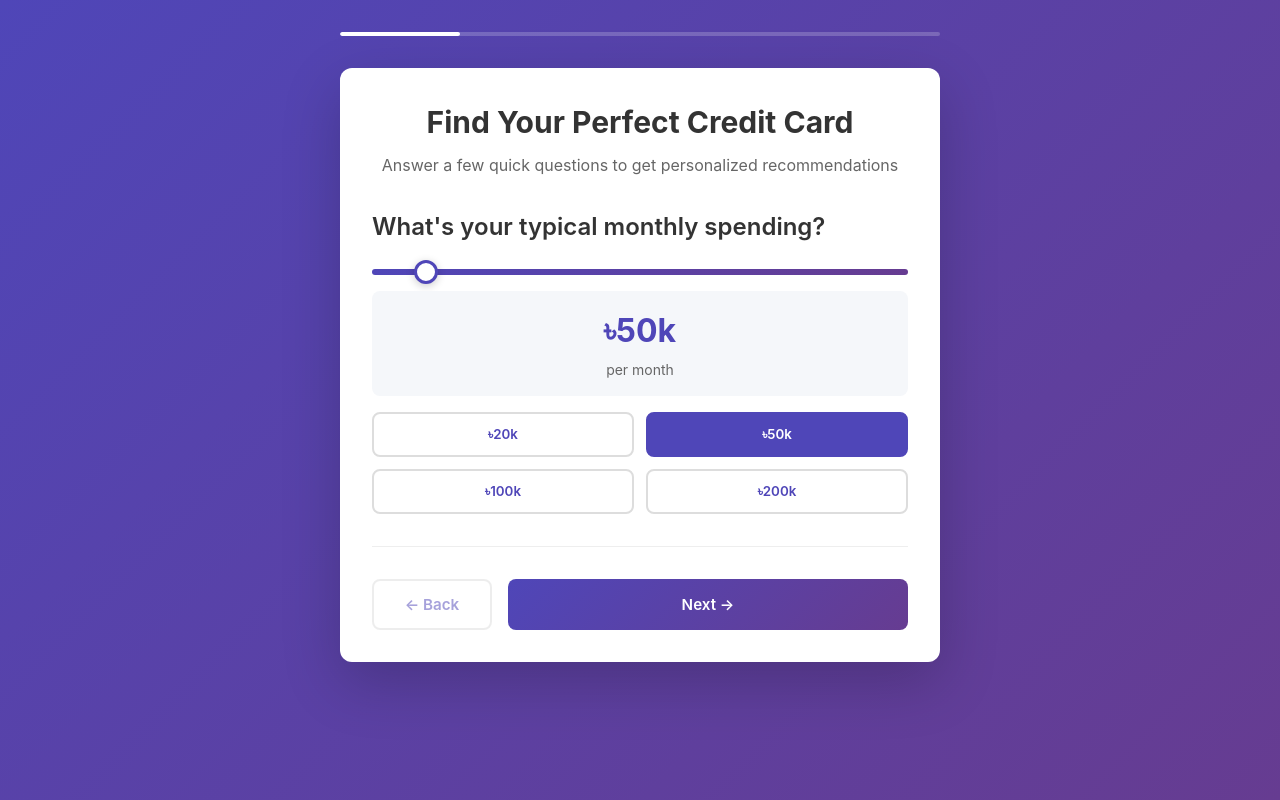
Scenario: RecommendationQuiz › Quiz Flow › enables previous button after first step
This screenshot has width=1280, height=800.
Check: the heading "What's your typical monthly spending?" is shown, box [372,212,825,241]
Click the button "Next →".
click(708, 604)  # box [508,579,908,630]
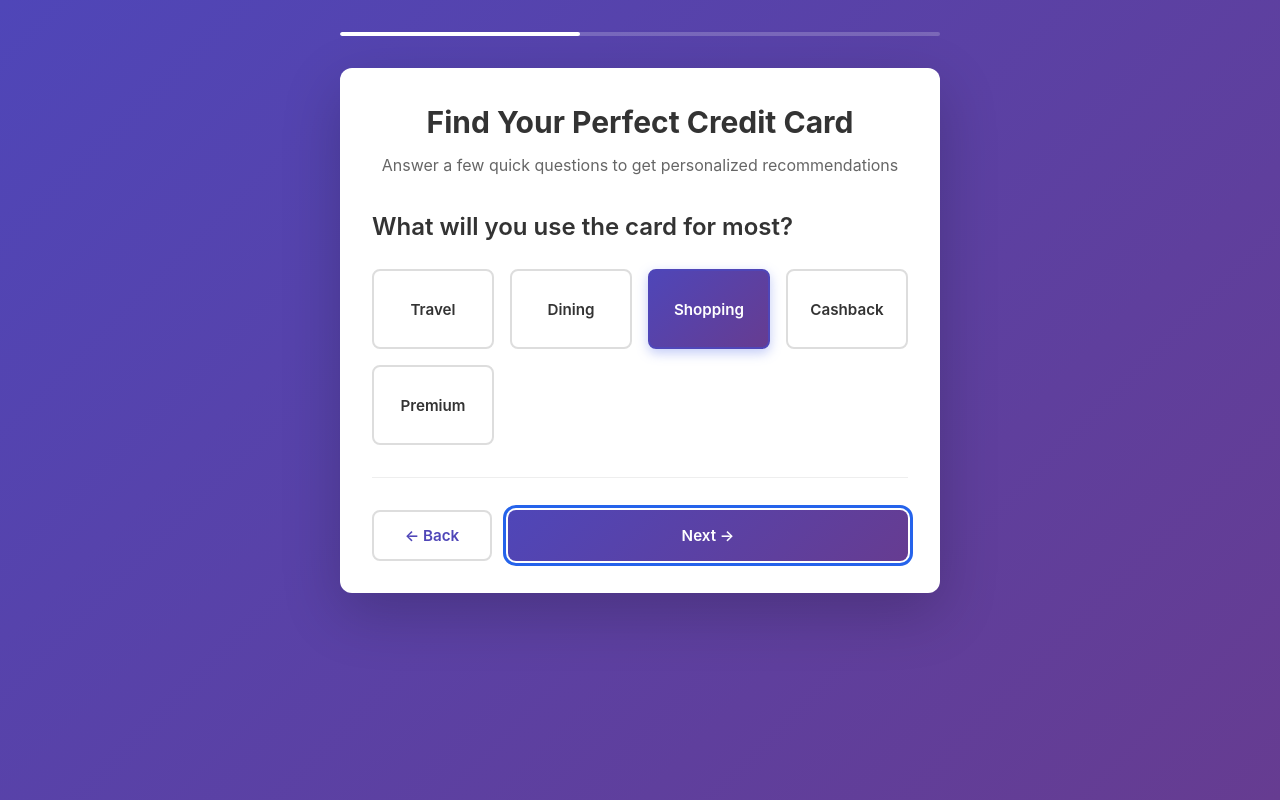
Check: the button "← Back" is enabled, box [372,510,492,561]
